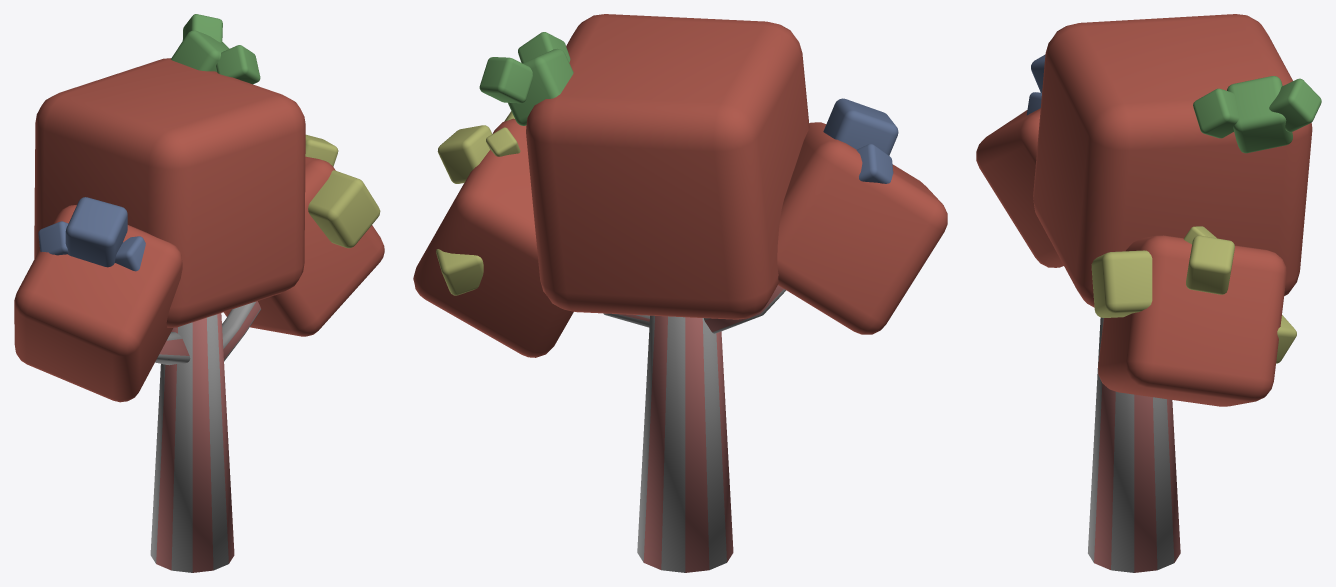
Rendered from treeMellowred - Copy.fbx.
The picture shows the model from 3 angles, left to right: view 1: azimuth 30°, elevation 25°; view 2: azimuth 150°, elevation 25°; view 3: azimuth 270°, elevation 25°; orthographic projection. The views are drawn at different scales.
Visible parts, largest first — view 1: Roundcube.002, Cube.002, Roundcube.001, Roundcube.005, Roundcube.004; view 2: Roundcube.002, Cube.002, Roundcube.004, Roundcube.005, Roundcube.001; view 3: Roundcube.002, Cube.002, Roundcube.005, Roundcube.004, Roundcube.001.
Part boxes in pixels (x1,y1,x2,y2): Roundcube.002: (14, 58, 384, 402); Cube.002: (150, 301, 260, 572); Roundcube.001: (38, 197, 145, 271); Roundcube.005: (305, 134, 380, 248); Roundcube.004: (171, 14, 260, 84); Roundcube.002: (413, 14, 947, 357); Cube.002: (603, 285, 785, 572); Roundcube.004: (479, 32, 573, 125); Roundcube.005: (436, 111, 520, 295); Roundcube.001: (823, 98, 898, 183); Roundcube.002: (976, 14, 1312, 406); Cube.002: (1088, 317, 1180, 572); Roundcube.005: (1091, 226, 1296, 363); Roundcube.004: (1193, 76, 1321, 153); Roundcube.001: (1026, 55, 1045, 115).
Size of the model in its own units: 1090 by 1227 by 744.
